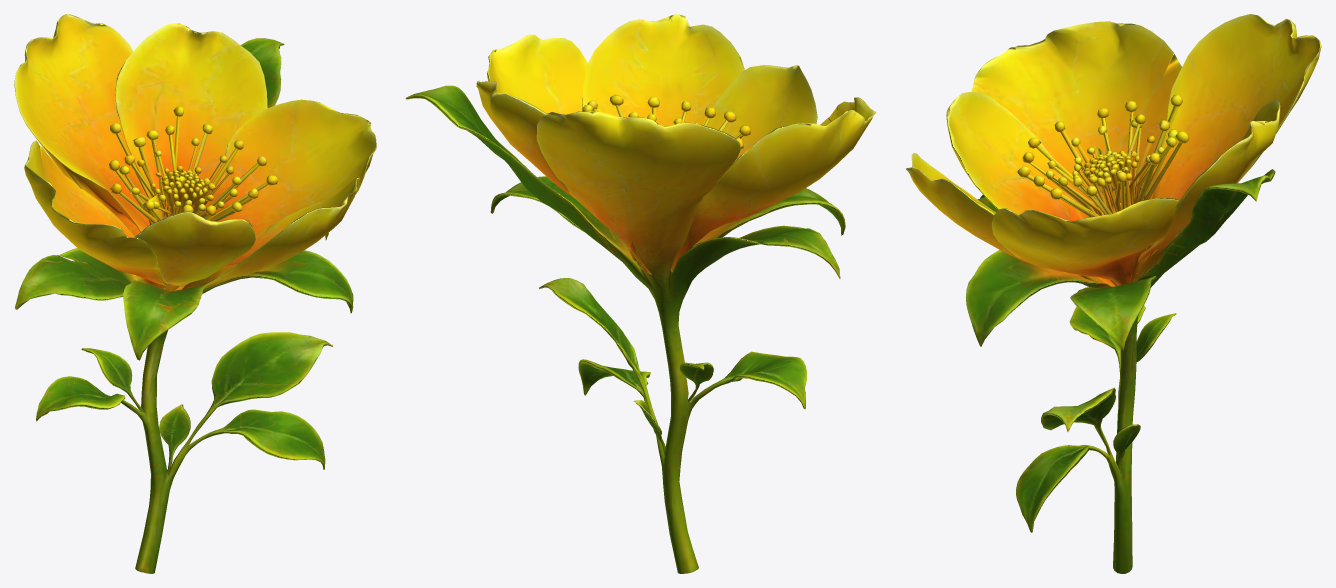
File: peony_yellow.glb
3 views of the same model, side by side, from view 1: azimuth 30°, elevation 25°; view 2: azimuth 150°, elevation 25°; view 3: azimuth 270°, elevation 25° (orthographic). The views are drawn at different scales.
Visible parts, largest first — view 1: geometry_0; view 2: geometry_0; view 3: geometry_0.
Part boxes in pixels (x1,y1,x2,y2): geometry_0: [14, 14, 376, 573]; geometry_0: [405, 14, 876, 573]; geometry_0: [906, 14, 1321, 573].
Bounding box in the file's own units: 0.6855 × 0.9502 × 0.6699.
1 material, 1 textured.
